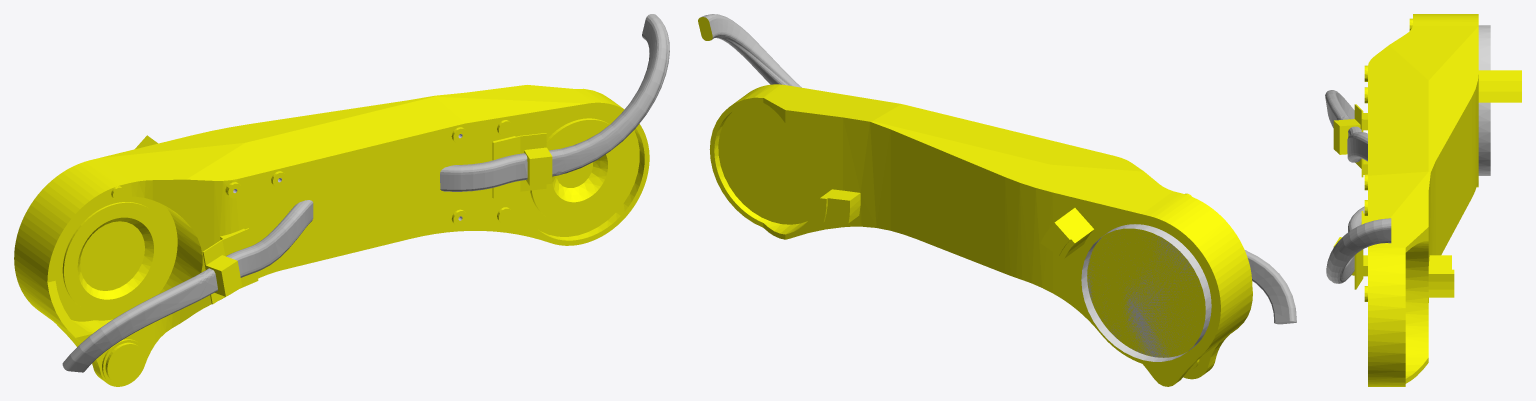
3 views of the same model, side by side, from view 1: azimuth 30°, elevation 25°; view 2: azimuth 150°, elevation 25°; view 3: azimuth 270°, elevation 25° (orthographic). The views are drawn at different scales.
Visible parts, largest first — view 1: node; view 2: node; view 3: node.
Part boxes in pixels (x1,y1,x2,y2): node: [14, 14, 669, 386]; node: [698, 14, 1296, 386]; node: [1325, 14, 1521, 386].
Size of the model in its own units: 1513 by 582 by 425.
